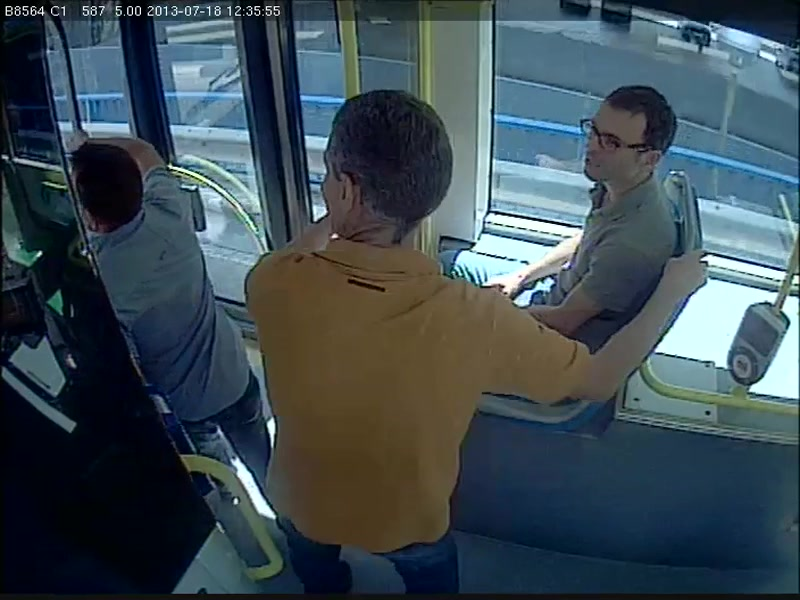Head: (308, 79, 459, 261), (579, 83, 679, 196), (52, 137, 157, 240)
